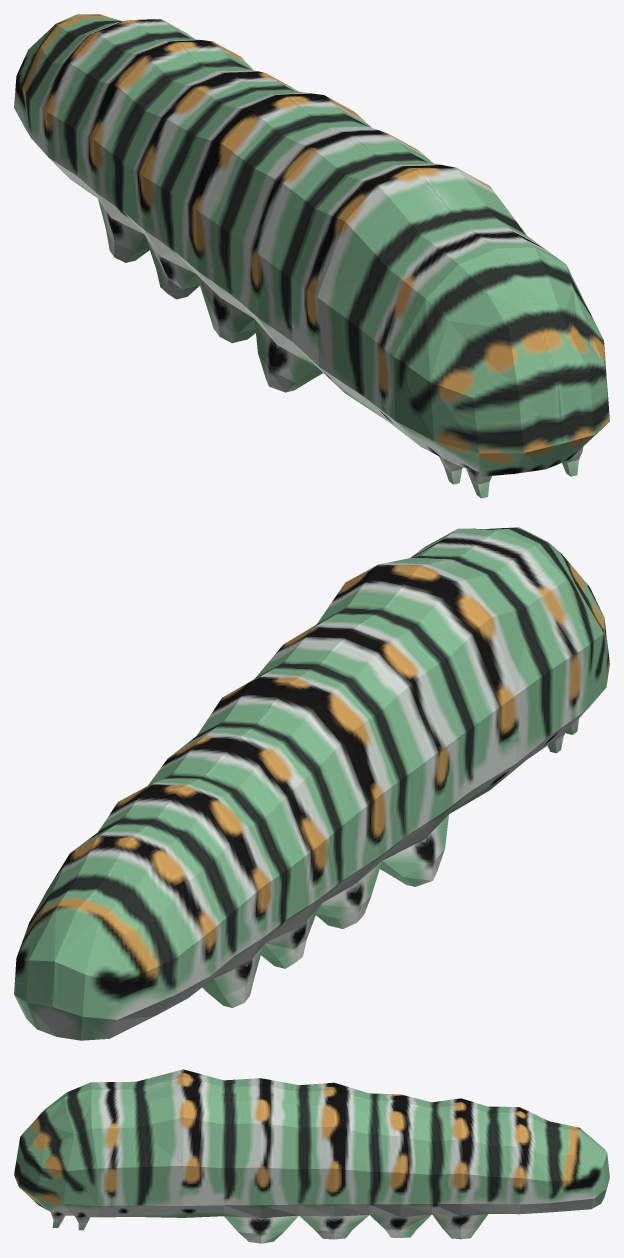
Rendered from leaf-grazer.glb.
3 views of the same model, one above another, from view 1: azimuth 30°, elevation 25°; view 2: azimuth 150°, elevation 25°; view 3: azimuth 270°, elevation 25° (orthographic). The views are drawn at different scales.
Parts seen in each view (by area): view 1: Node; view 2: Node; view 3: Node.
Part boxes in pixels (box(x1,y1,x2,y2)): Node: box(14, 14, 609, 498); Node: box(14, 527, 609, 1040); Node: box(14, 1069, 609, 1243).
Size of the model in its own units: 0.7987 by 0.9367 by 3.52.
1 material, 1 textured.
